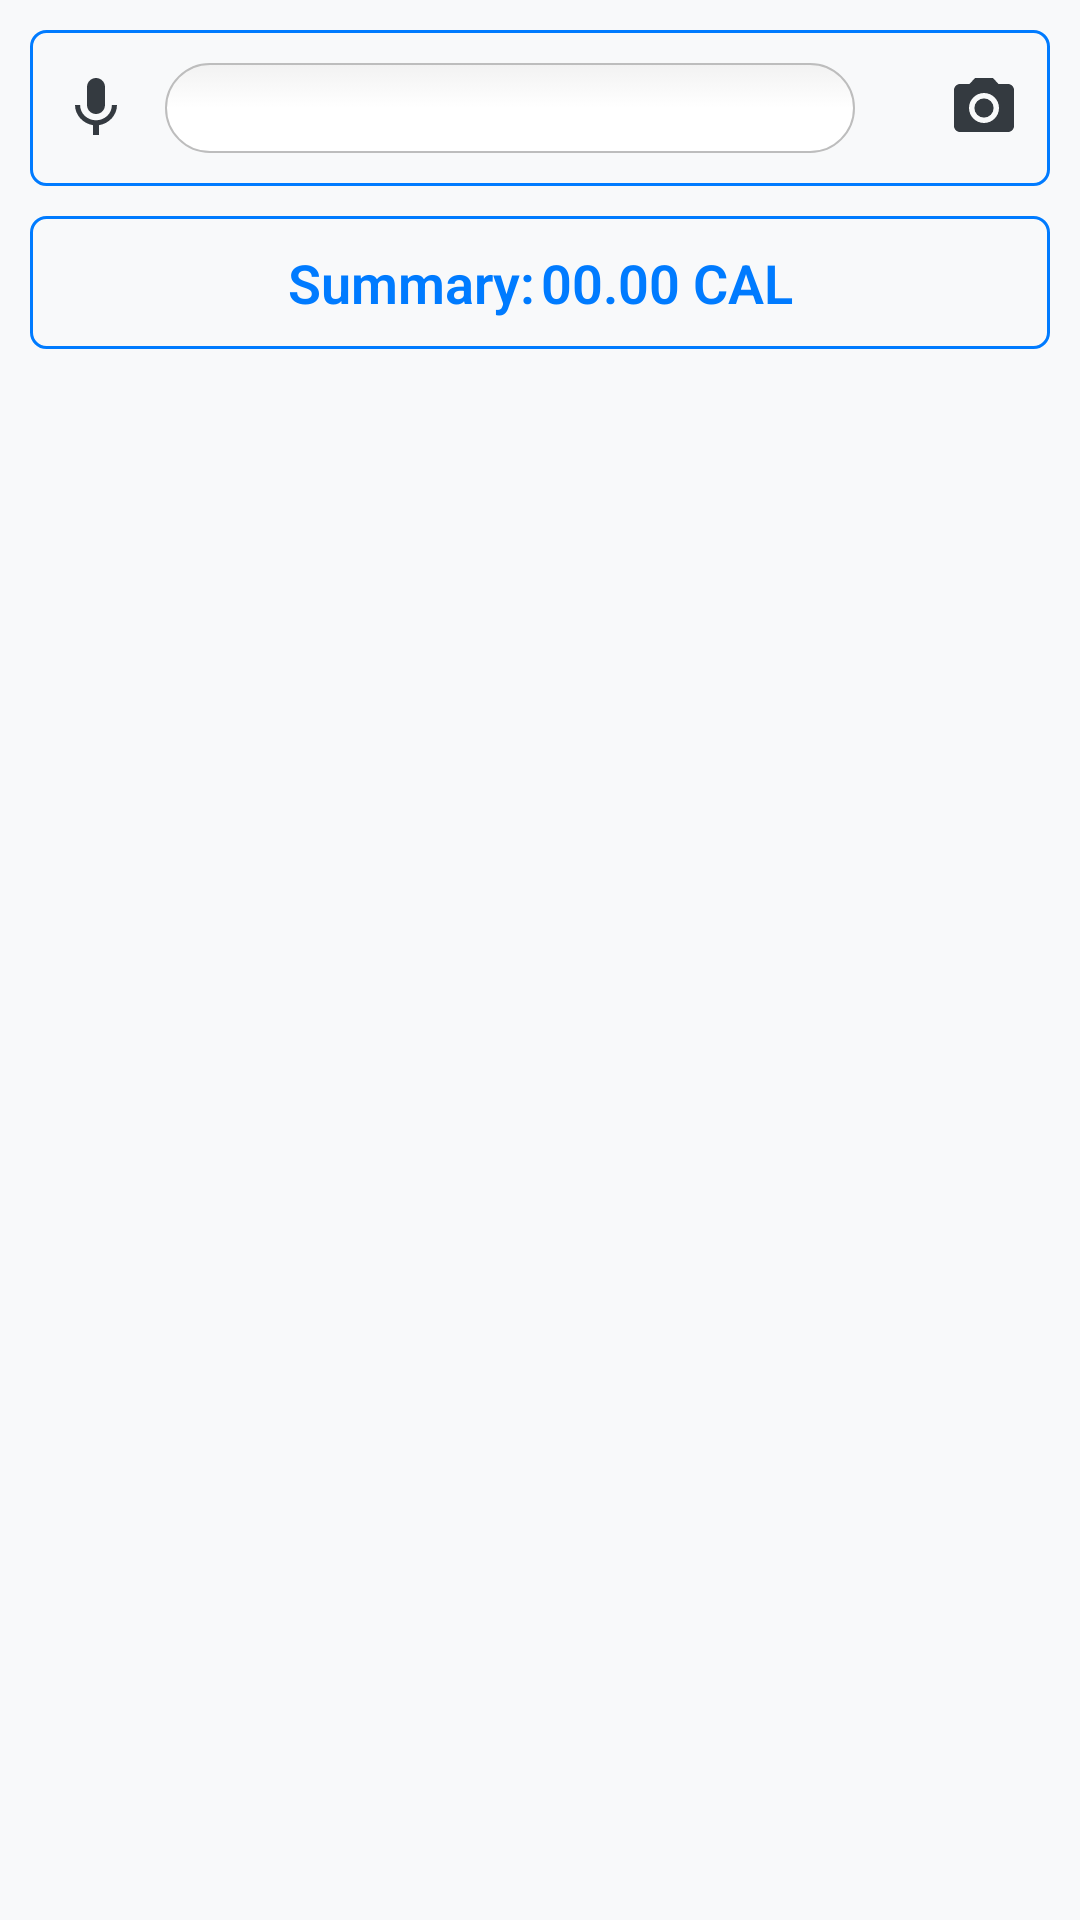

Named icons in this screenshot (1080 x 1920) and their centers, [x,y]:
camera: [984,105]
mic: [96,106]
